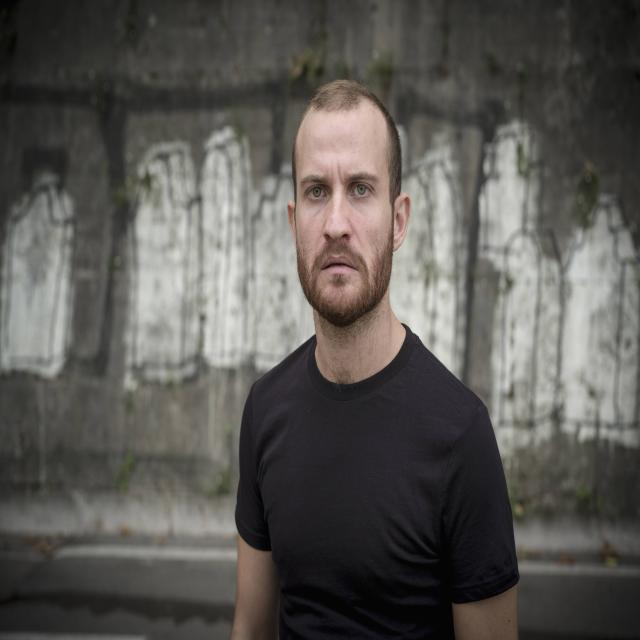human: (229, 76, 528, 640)
